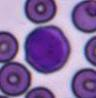L: (24, 25, 70, 74)
